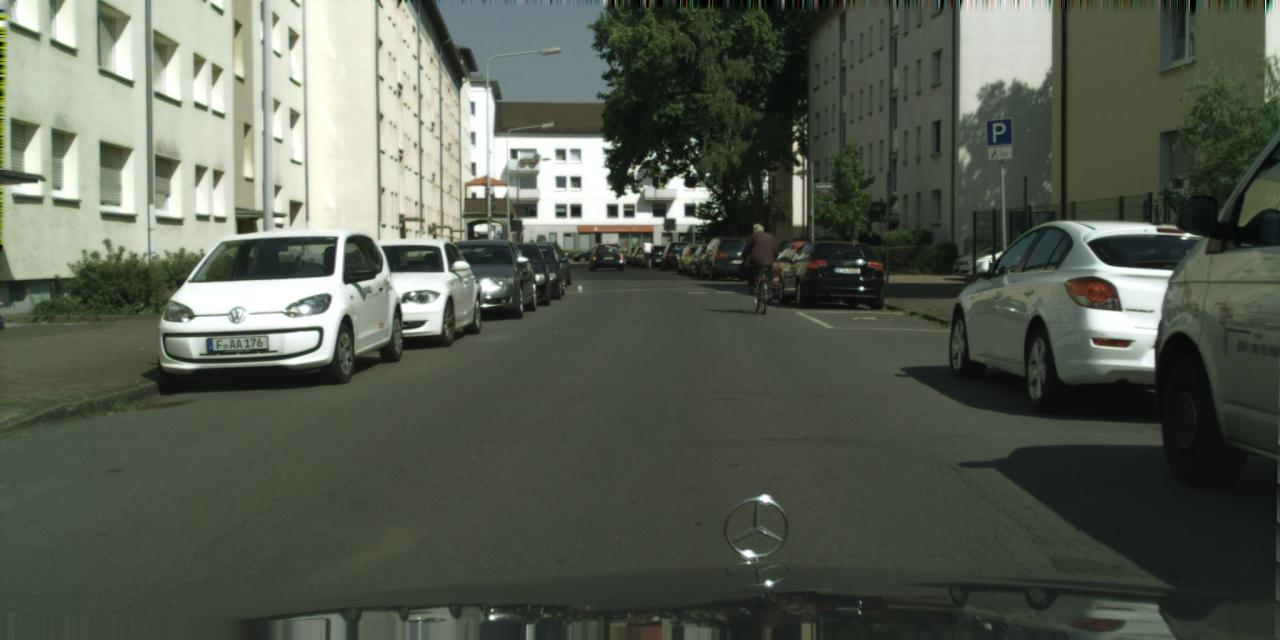ped: (744, 224, 774, 298), (641, 238, 652, 264)
